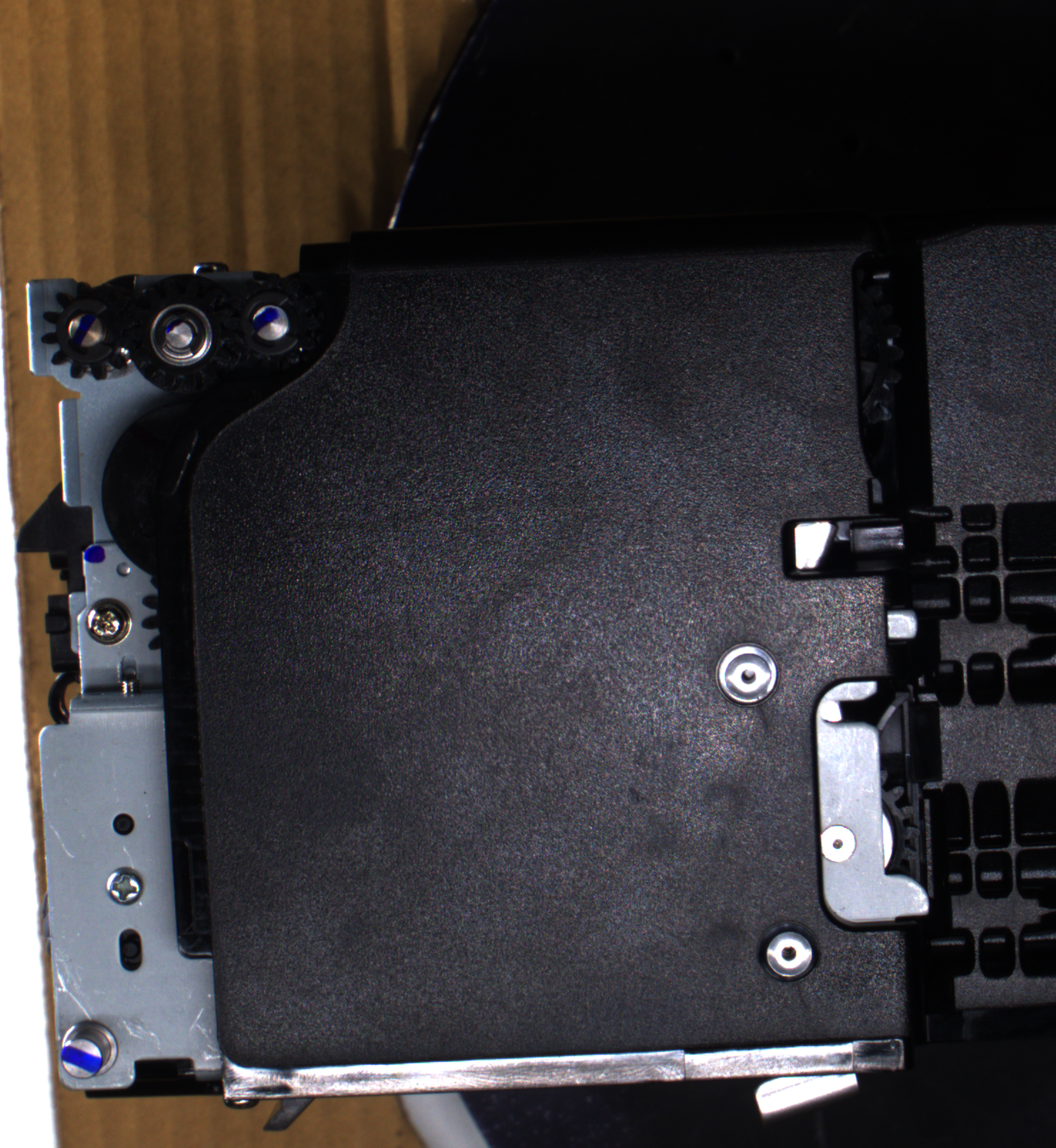centre_pin_presence: (746, 1060, 864, 1125)
centre_plate_presence: (807, 671, 944, 935)
centre_screw_presence: (711, 636, 783, 713), (752, 914, 824, 989)
gear1_presence: (39, 278, 140, 382)
gear2_presence: (123, 273, 237, 393)
gear3_presence: (222, 272, 324, 375)
side_screw_presence: (81, 595, 134, 646), (102, 864, 146, 907)
slanting_pin_presence: (56, 1017, 124, 1088)
